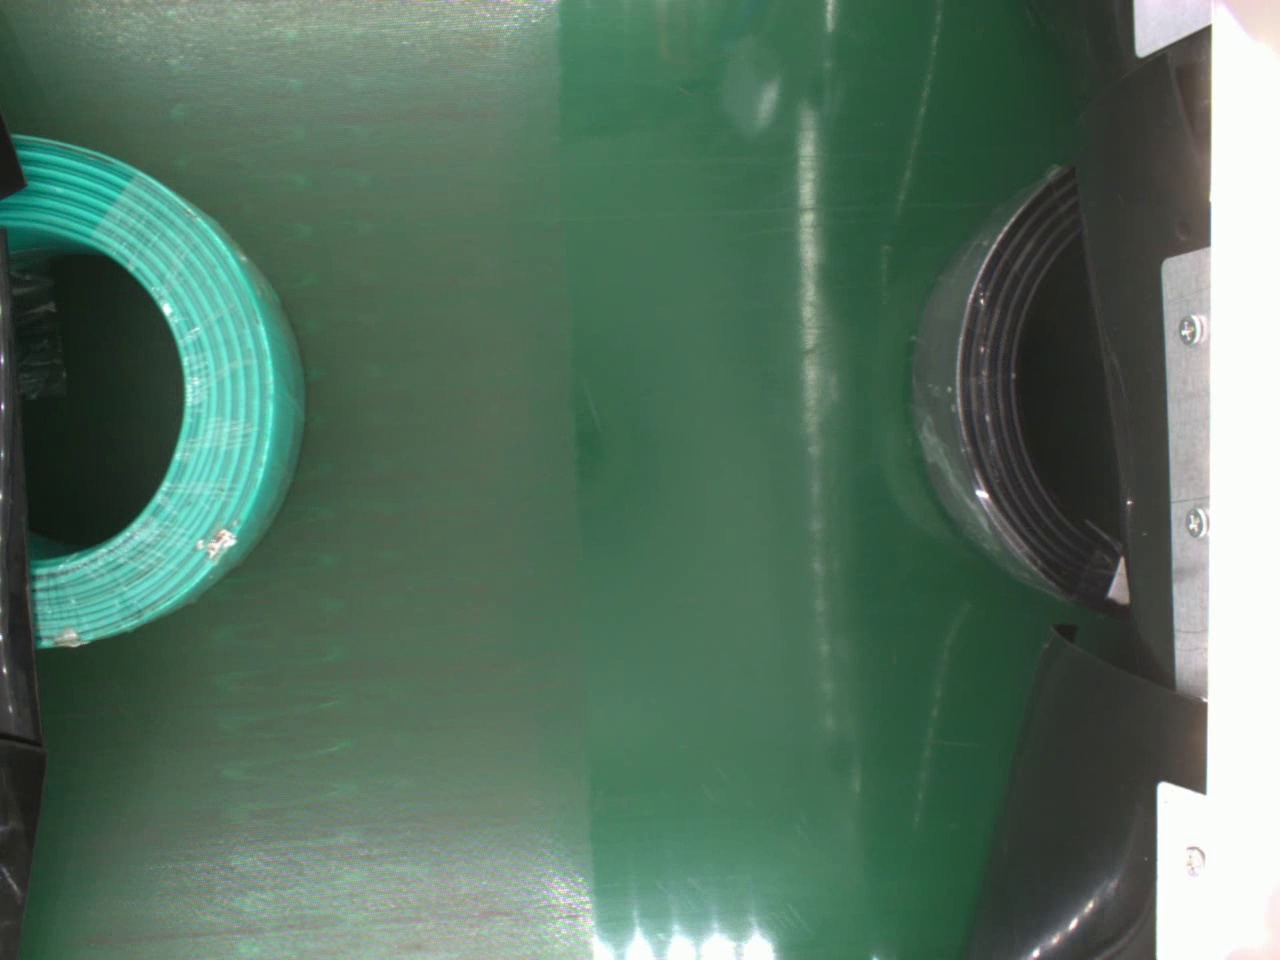black: (905, 157, 1137, 618)
green: (0, 128, 311, 655)
